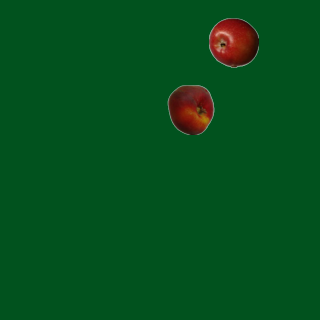Apple Braeburn: (208, 17, 258, 67)
Nectarine Flat: (165, 84, 215, 134)
